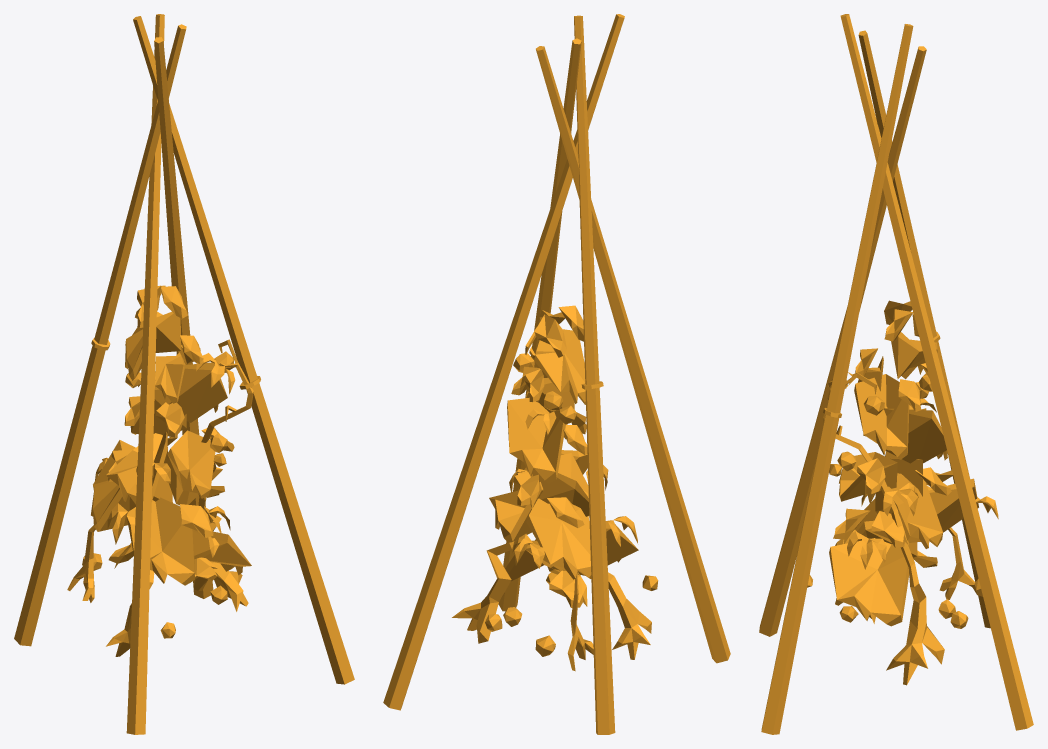
Rendered from SM_Tomato_Dead_Group_A.fbx.
The picture shows the model from 3 angles, left to right: view 1: azimuth 30°, elevation 25°; view 2: azimuth 150°, elevation 25°; view 3: azimuth 270°, elevation 25°; orthographic projection.
Visible parts, largest first — view 1: tomato-dead-group-a; view 2: tomato-dead-group-a; view 3: tomato-dead-group-a.
Part boxes in pixels (x1,y1,x2,y2): tomato-dead-group-a: (14,14,354,734); tomato-dead-group-a: (383,14,730,734); tomato-dead-group-a: (759,14,1033,734).
Size of the model in its own units: 1.05 by 2.89 by 1.11.
